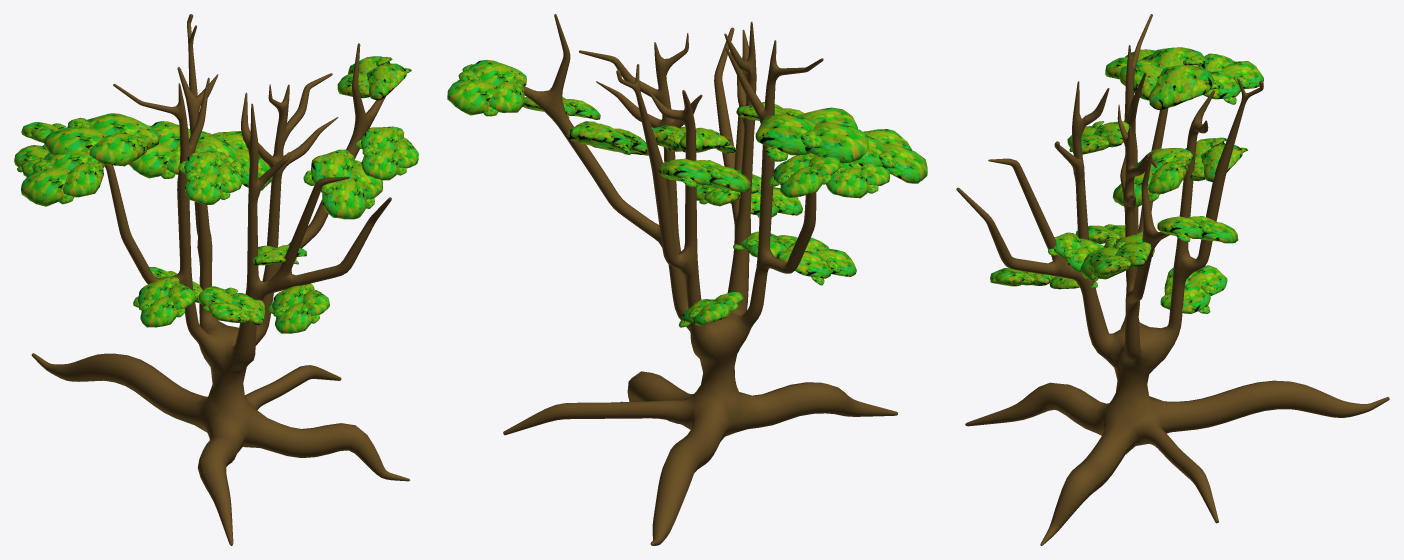
File: Arbol4.fbx
3 renders of one model, left to right at view 1: azimuth 30°, elevation 25°; view 2: azimuth 150°, elevation 25°; view 3: azimuth 270°, elevation 25°, orthographic. The views are drawn at different scales.
Visible parts, largest first — view 1: Arbol; view 2: Arbol; view 3: Arbol.
Boxes of the visible parts, x1=… form: Arbol: x1=14, y1=14, x2=418, y2=545; Arbol: x1=447, y1=14, x2=927, y2=545; Arbol: x1=956, y1=14, x2=1389, y2=545.
Bounding box in the file's own units: 4713 × 5069 × 4983.
